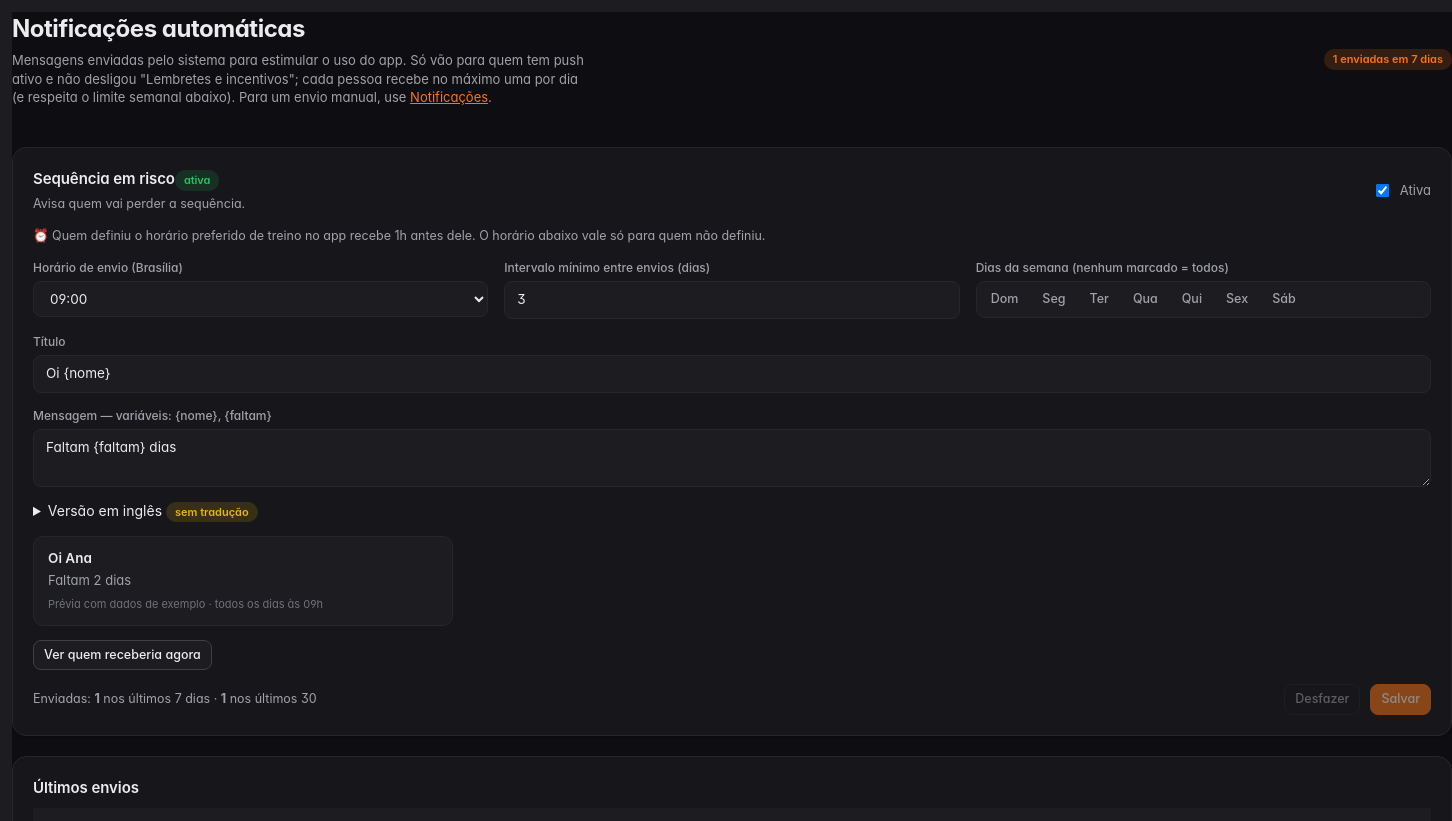
it: AutoNotifications › mostra erro ao salvar e Desfazer restaura
Expected: the heading "Sequência em risco ativa" is shown, [33, 168, 245, 191]
Replace the text in the field labelled "Título" with "X" at coordinates (732, 374), box [33, 355, 1431, 393]
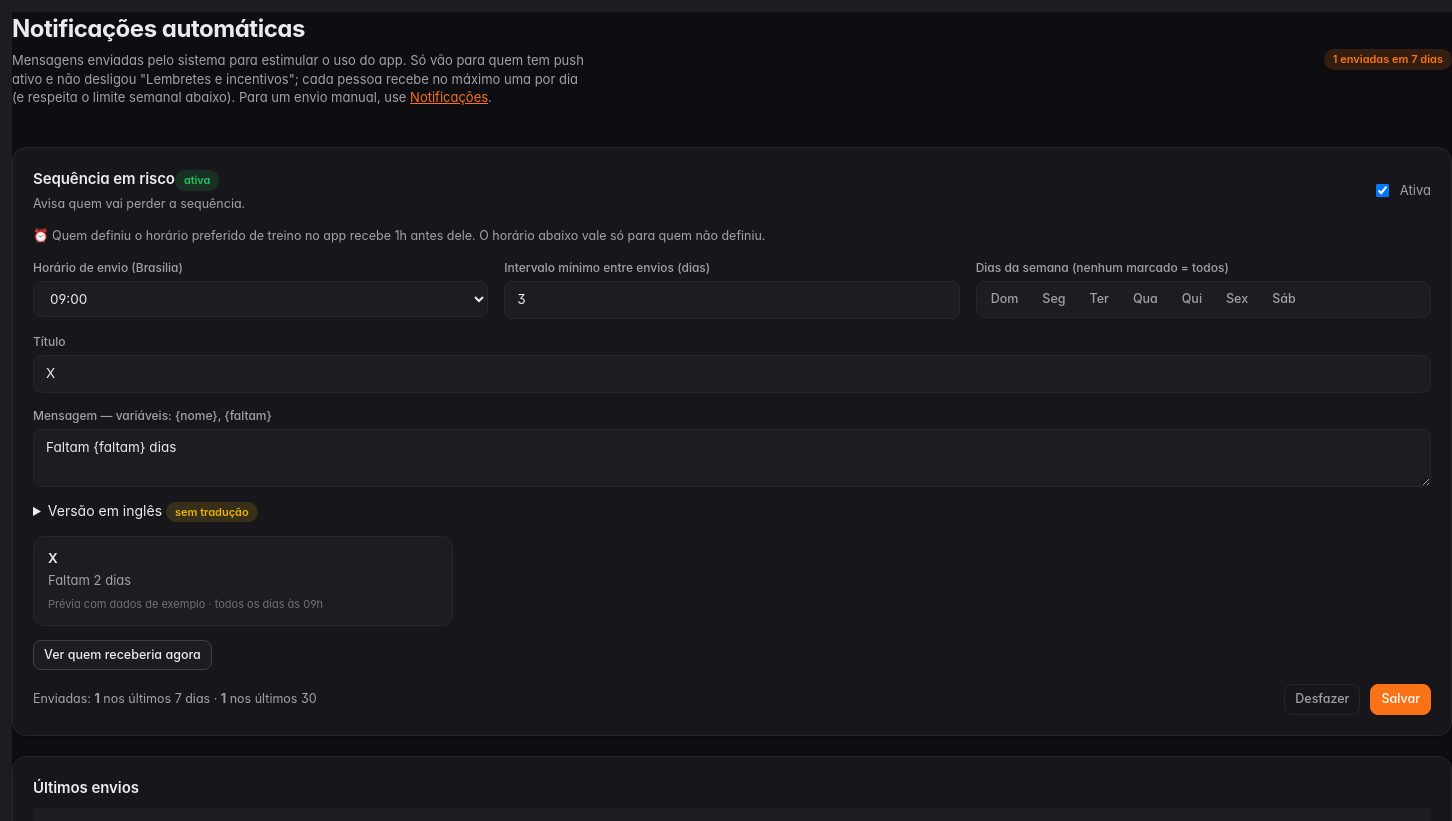
Click the button "Salvar".
click(1401, 700)  # box [1370, 684, 1431, 715]
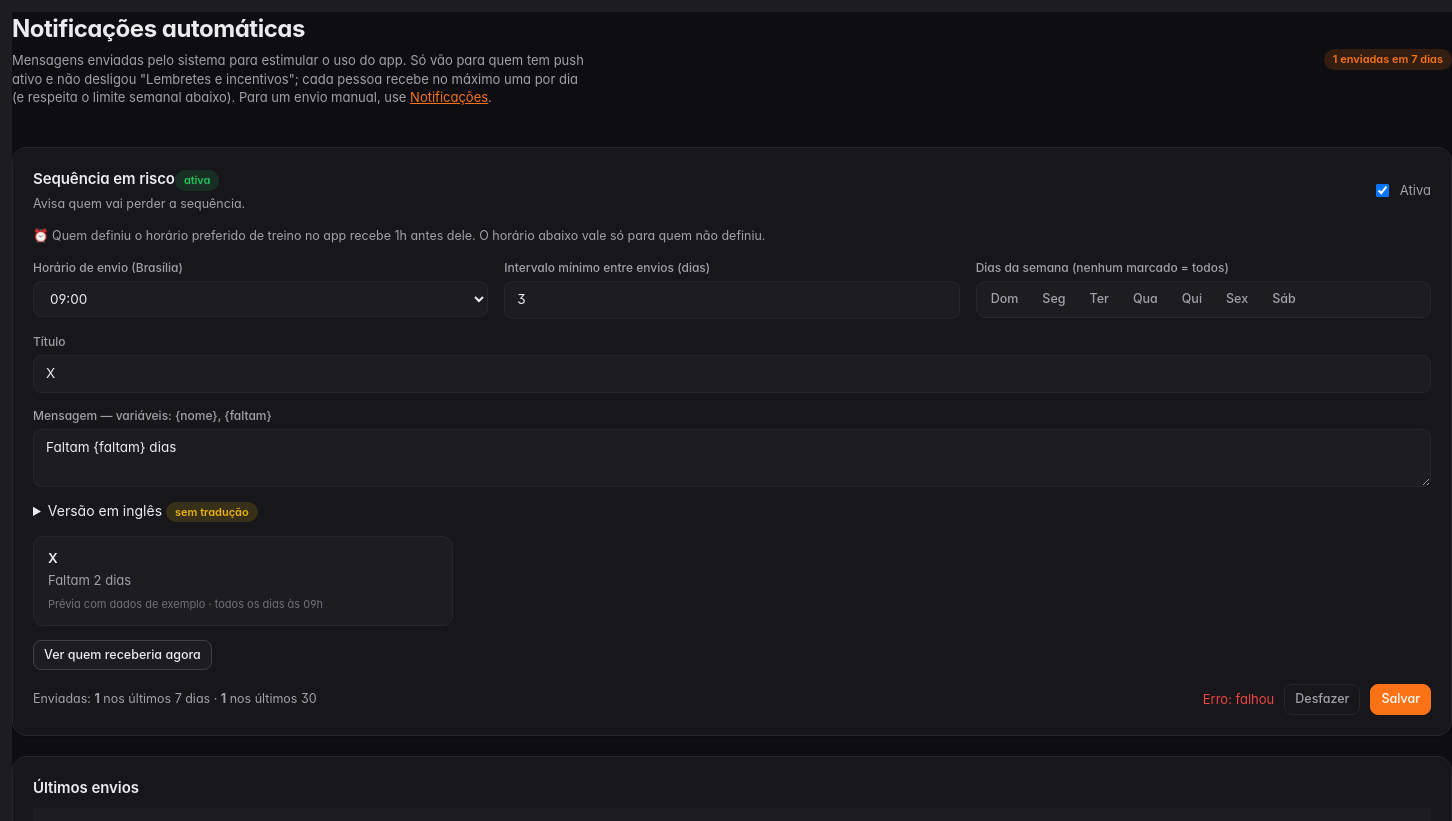
Expected: the text "Erro: falhou" is shown, [1203, 690, 1274, 709]
Click the button "Desfazer".
click(1322, 700)  # box [1284, 684, 1360, 715]
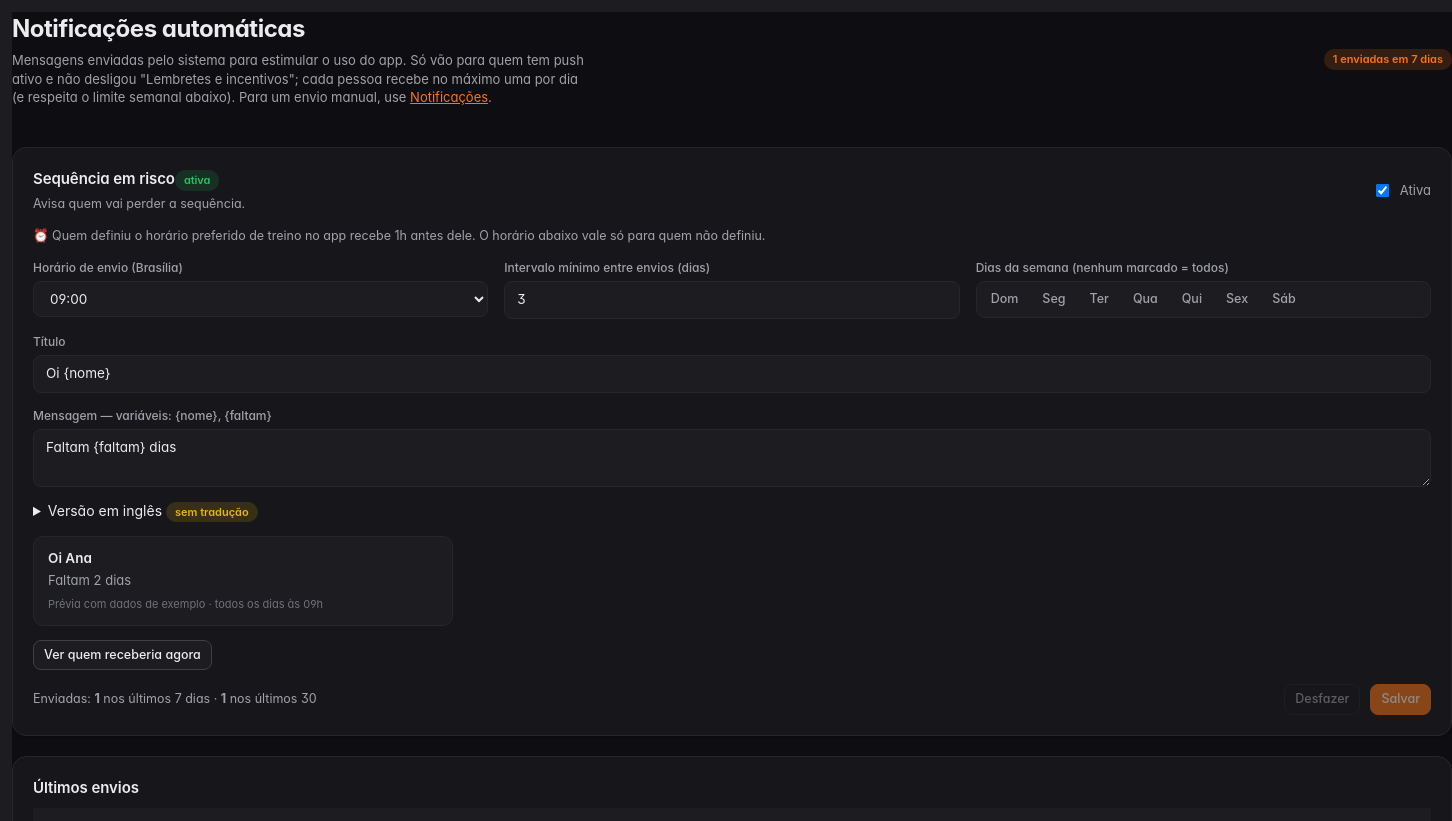
Expected: the field labelled "Título" holds "Oi {nome}", [33, 355, 1431, 393]
